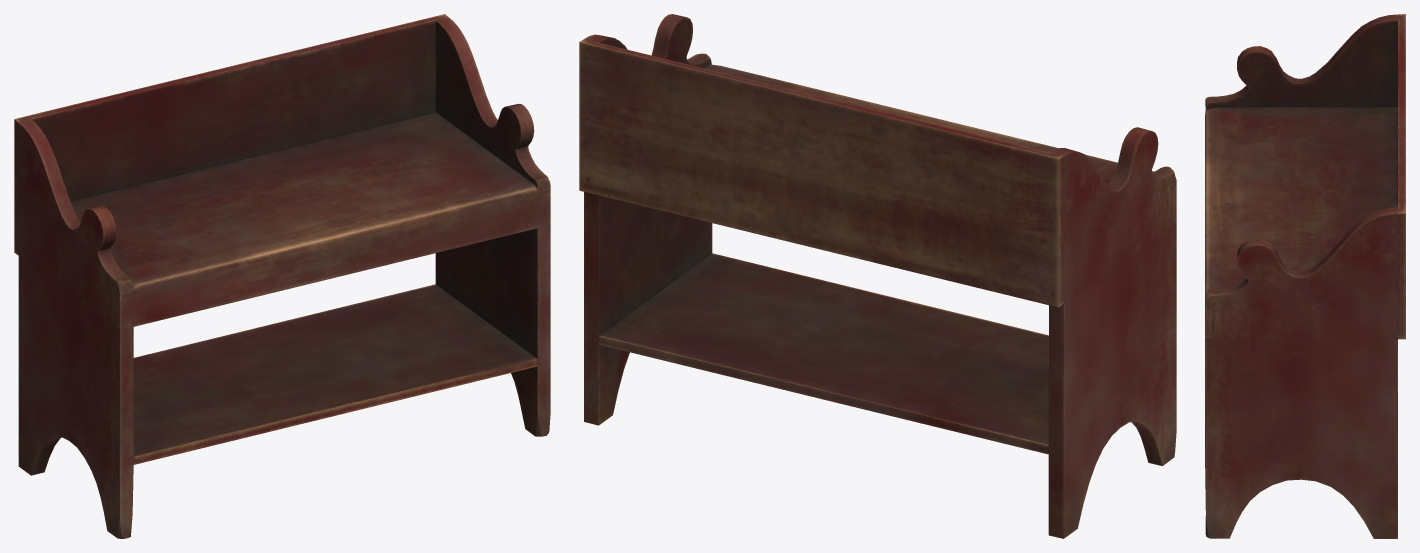
File: painted_wooden_bench.glb
The picture shows the model from 3 angles, left to right: view 1: azimuth 30°, elevation 25°; view 2: azimuth 150°, elevation 25°; view 3: azimuth 270°, elevation 25°; orthographic projection. The views are drawn at different scales.
Parts seen in each view (by area): view 1: painted_wooden_bench; view 2: painted_wooden_bench; view 3: painted_wooden_bench.
Boxes of the visible parts, x1=… form: painted_wooden_bench: x1=14, y1=14, x2=550, y2=538; painted_wooden_bench: x1=579, y1=14, x2=1176, y2=538; painted_wooden_bench: x1=1205, y1=14, x2=1405, y2=538.
Size of the model in its own units: 1.16 by 0.8893 by 0.4965.
1 material, 1 textured.
